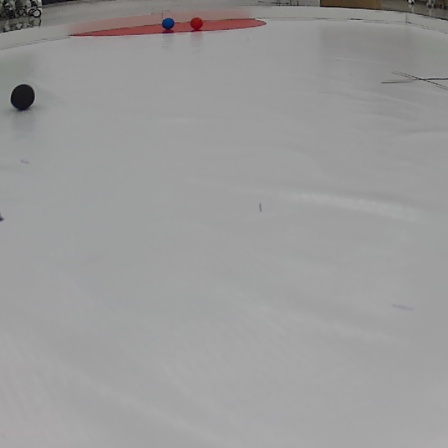black: (8, 83, 37, 112)
blue: (160, 17, 176, 31)
red: (190, 15, 204, 29)
red_base: (69, 14, 279, 36)
